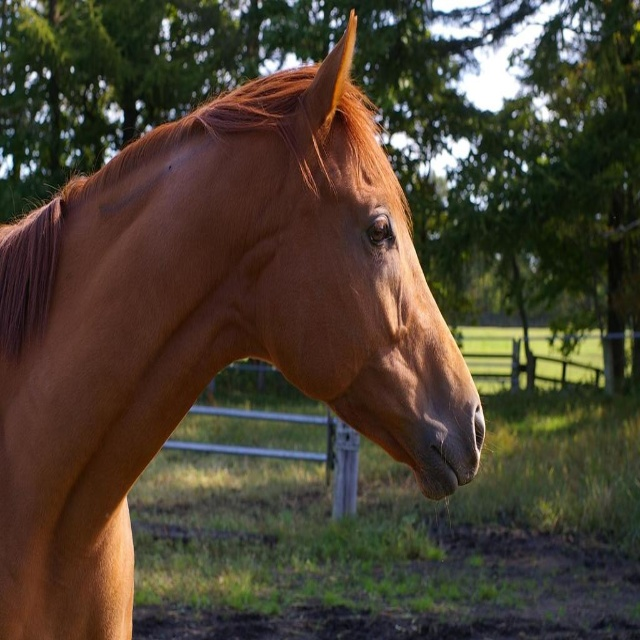Horse: (0, 9, 498, 639)
